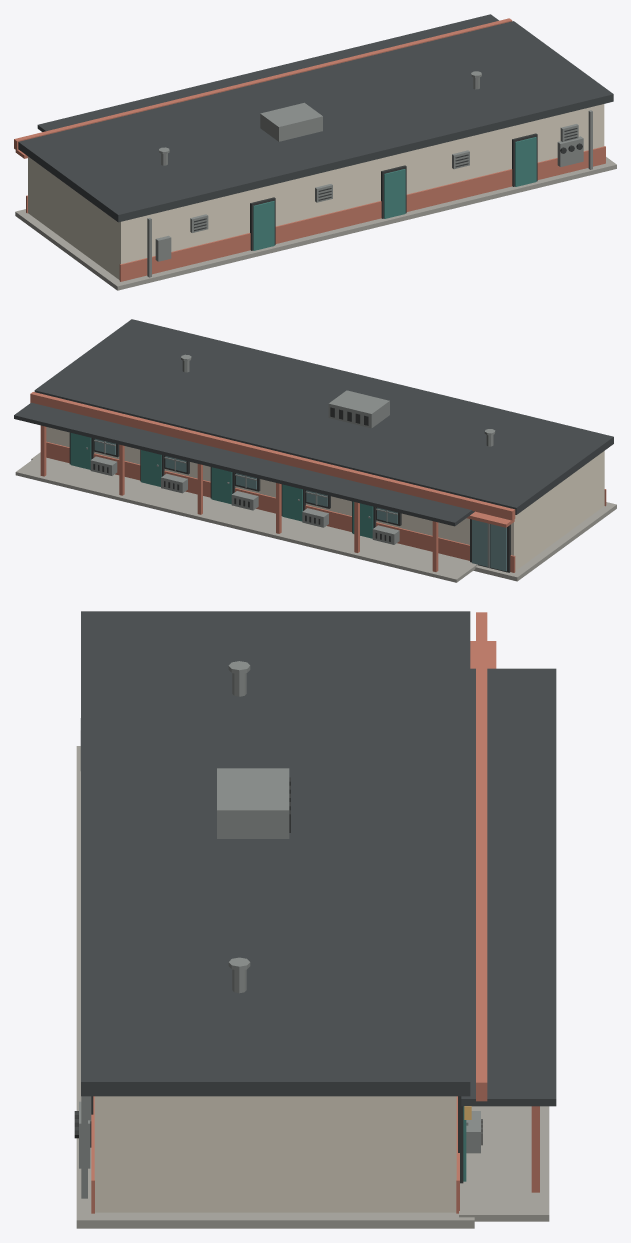
Rendered from motel.glb.
3 views of the same model, one above another, from view 1: azimuth 30°, elevation 25°; view 2: azimuth 150°, elevation 25°; view 3: azimuth 270°, elevation 25° (orthographic). The views are drawn at different scales.
Parts seen in each view (by area): view 1: roof, main_shell, coral_base_back, foundation, canopy, front_fascia, roof_hvac, service_door_1, service_door_2, service_door_3, meter_bank, electrical_panel; view 2: roof, front_walkway, canopy, main_shell, front_fascia, coral_base_front, foundation, roof_hvac, office_glass_right, room_door_3, room_door_1, office_glass_left (+9 smaller); view 3: roof, main_shell, canopy, foundation, front_walkway, front_fascia, roof_hvac.
Part boxes in pixels (x1,y1,x2,y2): roof: (18,21,613,222); main_shell: (28,104,604,279); coral_base_back: (119,146,605,281); foundation: (15,157,616,290); canopy: (37,14,498,131); front_fascia: (14,18,512,150); roof_hvac: (260,102,322,141); service_door_1: (515,137,536,186); service_door_2: (384,169,405,218); service_door_3: (253,201,274,250); meter_bank: (557,136,583,167); electrical_panel: (155,235,171,261); roof: (34,319,613,514); front_walkway: (15,455,477,582); canopy: (14,402,474,526); main_shell: (46,427,604,570); front_fascia: (30,392,515,520); coral_base_front: (46,441,515,572); foundation: (31,452,616,581); roof_hvac: (328,390,389,428); office_glass_right: (490,524,506,571); room_door_3: (211,467,232,504); room_door_1: (70,433,91,469); office_glass_left: (472,519,487,566); roof: (81,611,470,1096); main_shell: (94,1096,456,1212); canopy: (461,668,556,1106); foundation: (76,746,474,1228); front_walkway: (459,1106,549,1221); front_fascia: (476,612,487,1101); roof_hvac: (217,768,289,838).
Size of the model in its own units: 24.8 by 4.22 by 10.64.
